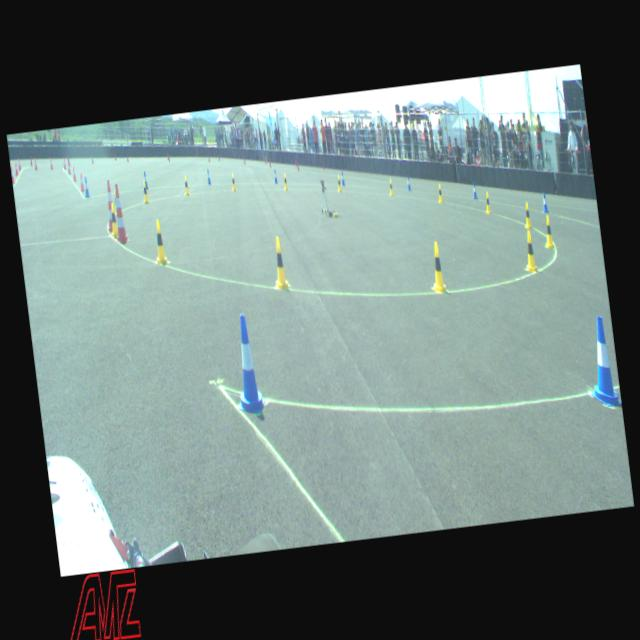blue_cone: (227, 312, 266, 416), (582, 314, 620, 408), (82, 176, 90, 198), (541, 192, 549, 212), (471, 180, 478, 199), (272, 168, 278, 184), (143, 170, 148, 188), (406, 174, 411, 190), (340, 169, 345, 185), (206, 168, 210, 185)
large_orange_cone: (110, 182, 130, 242), (102, 179, 116, 232)
orange_cone: (78, 171, 85, 191), (70, 165, 76, 181), (10, 165, 15, 183), (32, 156, 38, 170), (13, 161, 19, 175), (16, 157, 22, 170), (66, 160, 70, 173), (49, 156, 53, 169), (62, 156, 66, 168)
yellow_cone: (270, 236, 290, 290), (428, 240, 447, 294), (520, 228, 537, 272), (152, 218, 168, 264), (542, 215, 554, 248), (107, 202, 118, 236), (522, 202, 532, 228), (140, 180, 150, 203), (484, 190, 492, 213), (182, 175, 190, 195), (436, 183, 444, 203), (230, 172, 237, 192), (387, 178, 394, 195), (282, 172, 288, 190), (336, 174, 342, 192)
